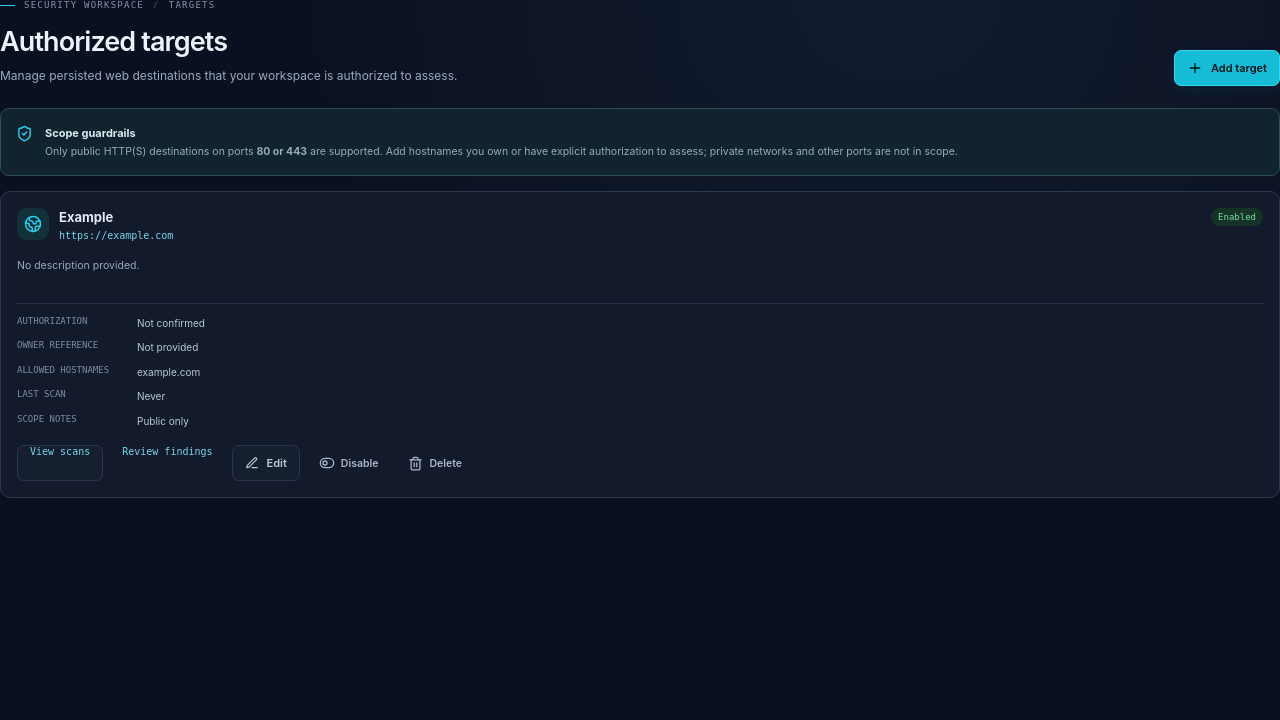
Scenario: targets API boundary › renders a live target and keeps creation disabled until authorization is explicit
Expected: the heading "Example" is shown, [59,209,113,225]
Click the button "Add target". click: (1227, 68)
box: [1174,50,1279,86]
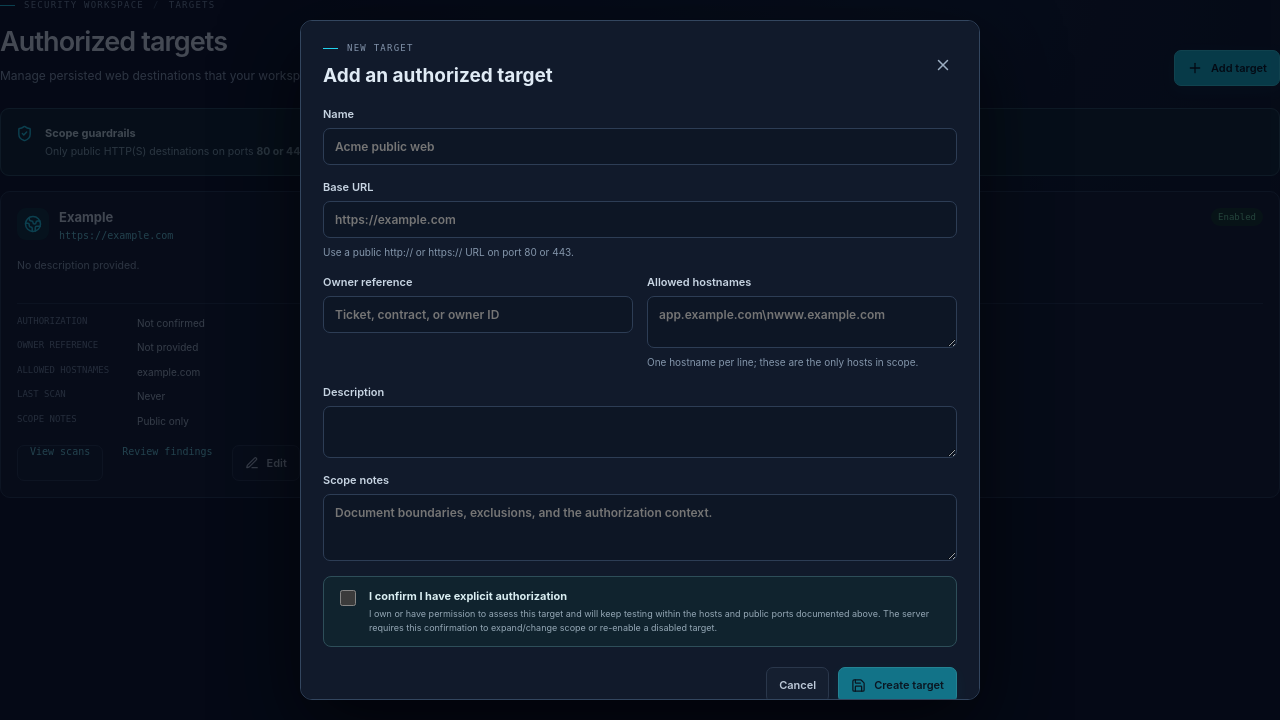
Now the button "Create target" is disabled, box [838,667,957,700]
Click the checkbox labelled "explicit authorization". click: (348, 598)
box: [340,590,356,606]
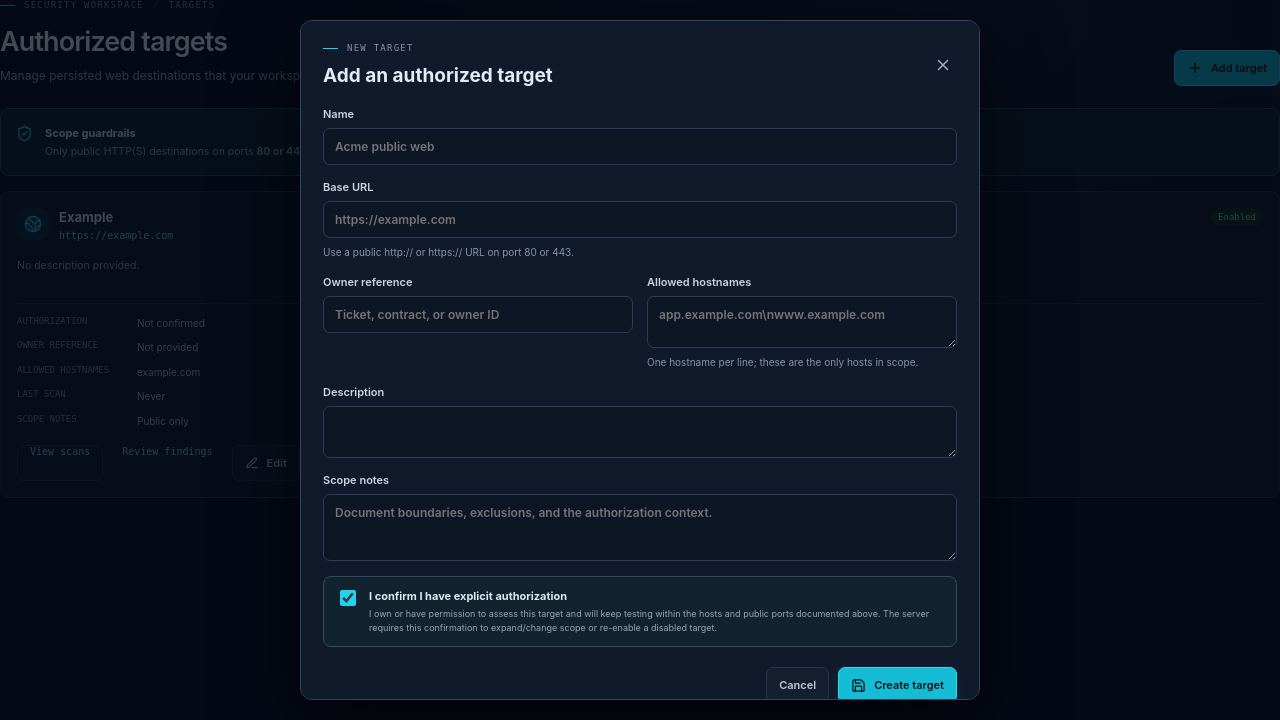
Now the button "Create target" is enabled, box [838,667,957,700]
